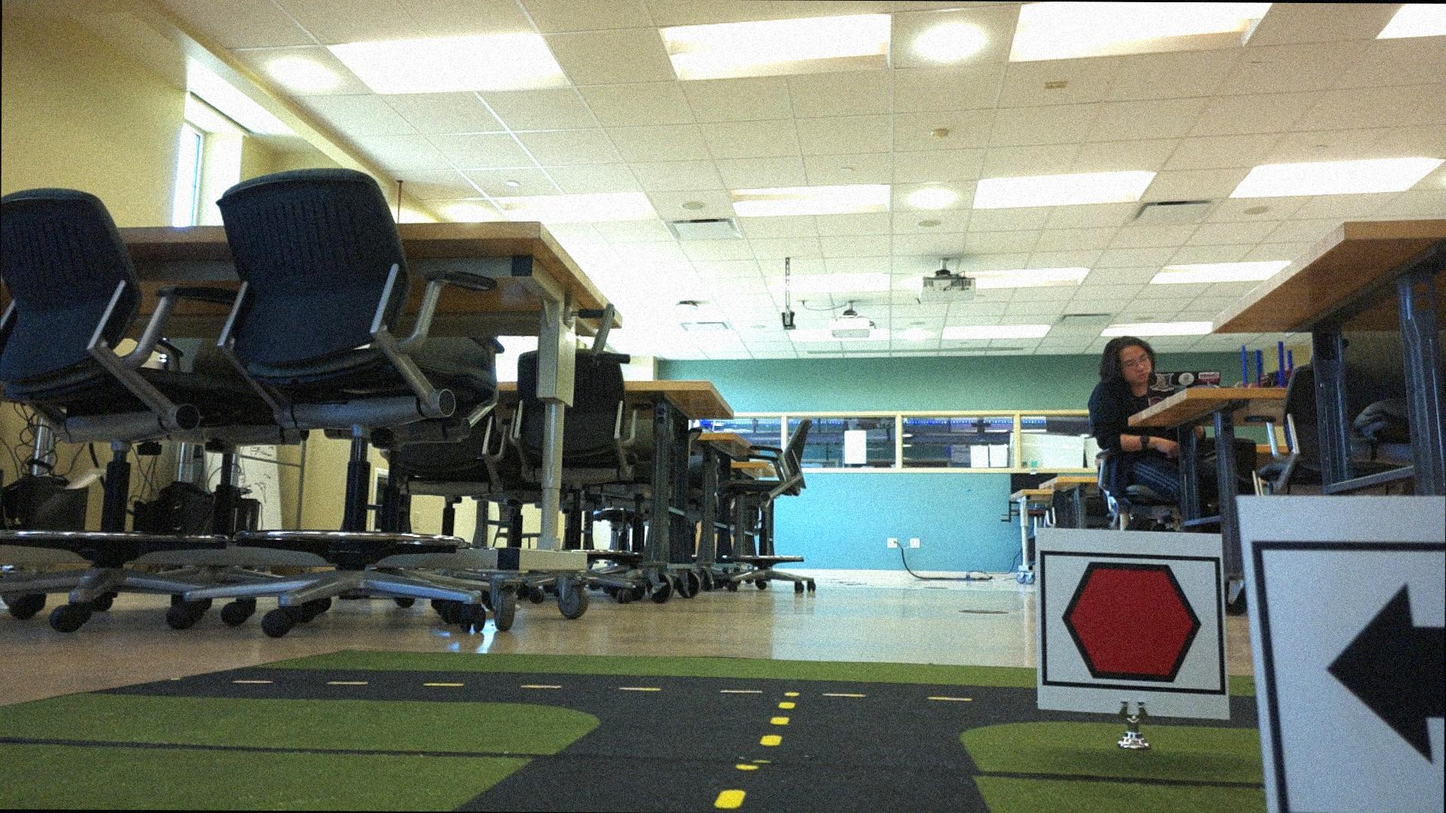stop: (1047, 559, 1215, 688)
yellowline: (762, 699, 793, 748)
